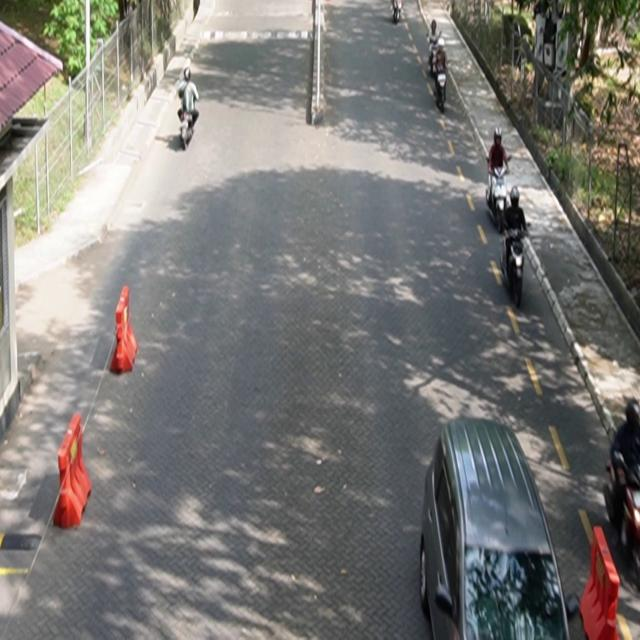car: (420, 417, 573, 640)
